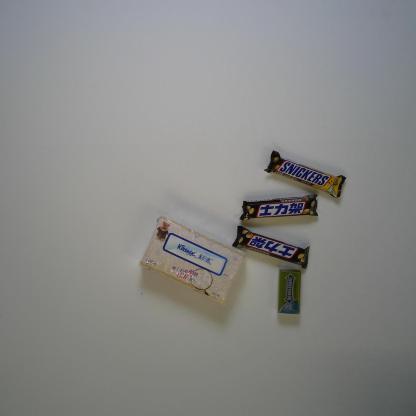Chocolate: (263, 148, 347, 200), (231, 224, 310, 270), (237, 194, 322, 221)
Gum: (276, 268, 303, 316)
Tissue: (136, 214, 247, 306)
